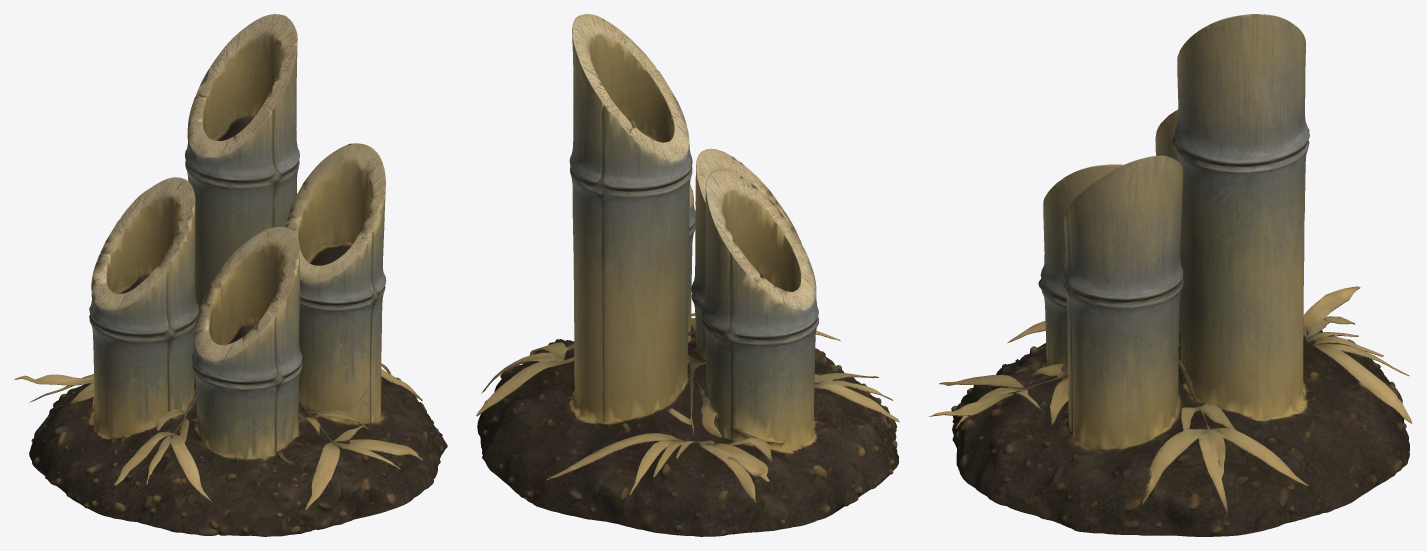
Rendered from bamboo_stumps.glb.
The picture shows the model from 3 angles, left to right: view 1: azimuth 30°, elevation 25°; view 2: azimuth 150°, elevation 25°; view 3: azimuth 270°, elevation 25°; orthographic projection. The views are drawn at different scales.
Parts seen in each view (by area): view 1: tripo_node_f9da7eb1-eed1-45ff-b614-03105ec01df6; view 2: tripo_node_f9da7eb1-eed1-45ff-b614-03105ec01df6; view 3: tripo_node_f9da7eb1-eed1-45ff-b614-03105ec01df6.
Boxes of the visible parts, <box> form: tripo_node_f9da7eb1-eed1-45ff-b614-03105ec01df6: <box>14,14,447,536</box>; tripo_node_f9da7eb1-eed1-45ff-b614-03105ec01df6: <box>476,14,899,536</box>; tripo_node_f9da7eb1-eed1-45ff-b614-03105ec01df6: <box>929,14,1412,536</box>.
Size of the model in its own units: 0.9092 by 1 by 0.9353.
Materials: 1 (1 with a texture image).
